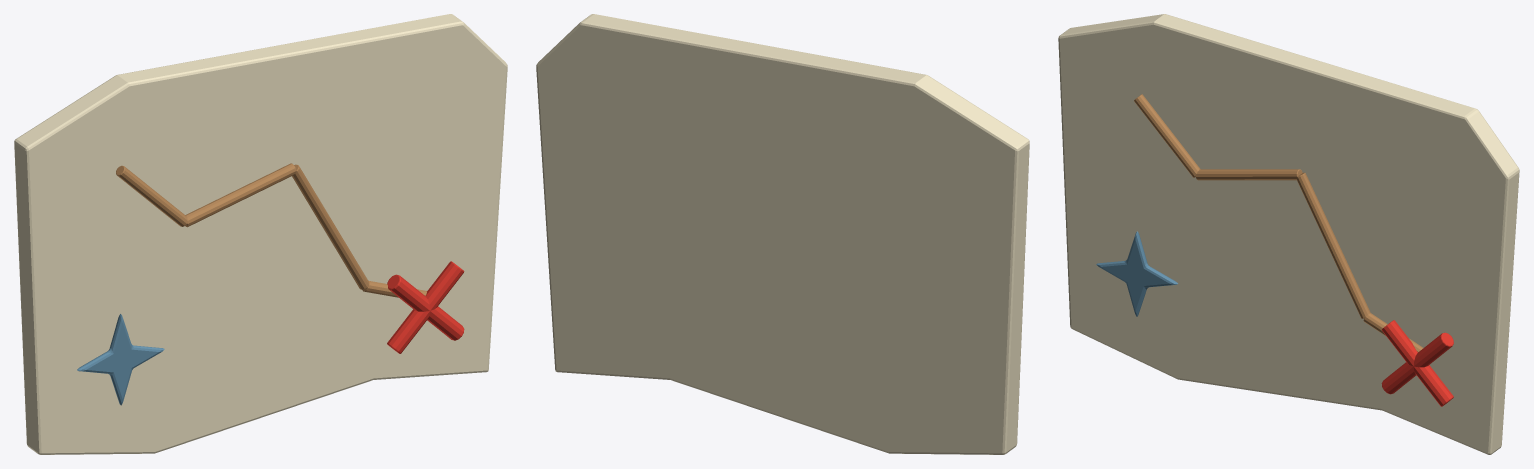
File: P021_treasure_map.glb
3 renders of one model, left to right at view 1: azimuth 30°, elevation 25°; view 2: azimuth 150°, elevation 25°; view 3: azimuth 330°, elevation 25°, orthographic. The views are drawn at different scales.
Parts seen in each view (by area): view 1: P021_parchment_001, P021_compass_008, P021_cross_006, P021_path_004, P021_cross_007, P021_path_003, P021_path_002; view 2: P021_parchment_001; view 3: P021_parchment_001, P021_compass_008, P021_path_004, P021_cross_007, P021_cross_006, P021_path_003, P021_path_002.
Part boxes in pixels (x1=…): P021_parchment_001: x1=14, y1=14, x2=507, y2=454; P021_compass_008: x1=77, y1=314, x2=164, y2=405; P021_cross_006: x1=387, y1=261, x2=464, y2=353; P021_path_004: x1=292, y1=164, x2=369, y2=289; P021_cross_007: x1=387, y1=274, x2=464, y2=340; P021_path_003: x1=185, y1=163, x2=296, y2=227; P021_path_002: x1=116, y1=165, x2=187, y2=226; P021_parchment_001: x1=536, y1=14, x2=1029, y2=454; P021_parchment_001: x1=1058, y1=14, x2=1519, y2=454; P021_compass_008: x1=1096, y1=231, x2=1177, y2=316; P021_path_004: x1=1296, y1=172, x2=1370, y2=318; P021_cross_007: x1=1382, y1=320, x2=1453, y2=406; P021_cross_006: x1=1381, y1=332, x2=1453, y2=394; P021_path_003: x1=1195, y1=169, x2=1302, y2=180; P021_path_002: x1=1134, y1=94, x2=1200, y2=177.
Size of the model in its own units: 0.3748 by 0.28 by 0.033.
